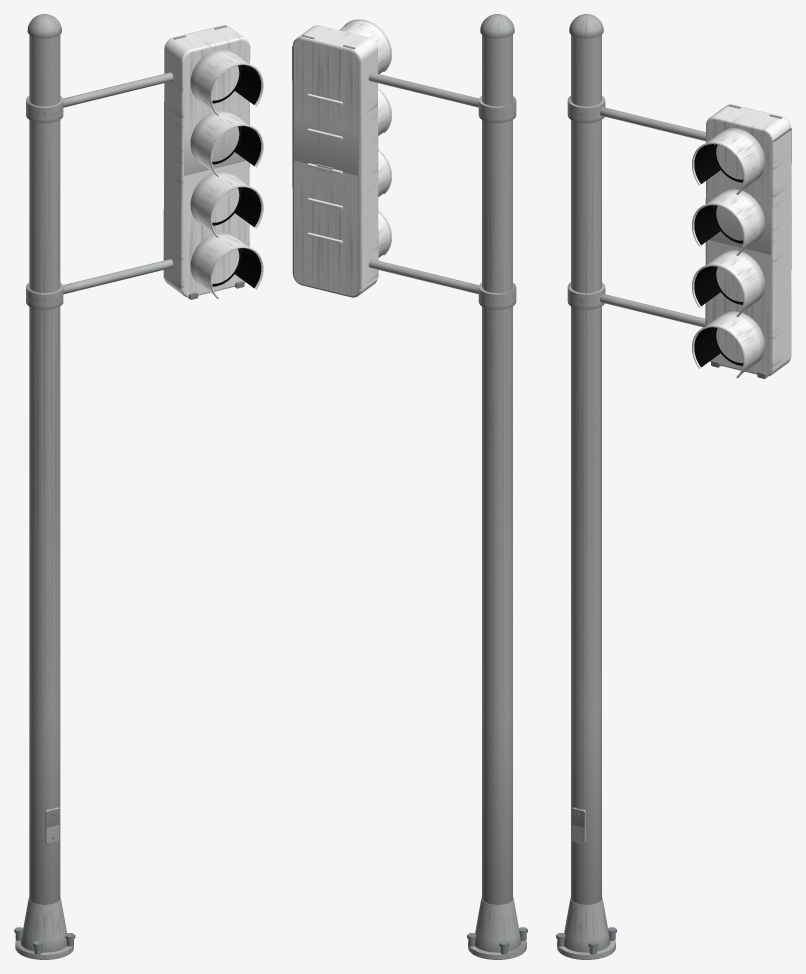
3 renders of one model, left to right at view 1: azimuth 30°, elevation 25°; view 2: azimuth 150°, elevation 25°; view 3: azimuth 330°, elevation 25°, orthographic.
Parts seen in each view (by area): view 1: jp-tram-symbol; view 2: jp-tram-symbol; view 3: jp-tram-symbol.
Boxes of the visible parts, left/top/right/bottom form: jp-tram-symbol: left=14, top=14, right=263, bottom=959; jp-tram-symbol: left=292, top=14, right=527, bottom=959; jp-tram-symbol: left=556, top=14, right=791, bottom=959.
Bounding box in the file's own units: 1.37 × 5.49 × 0.4822.
Materials: 11 (2 with a texture image).
